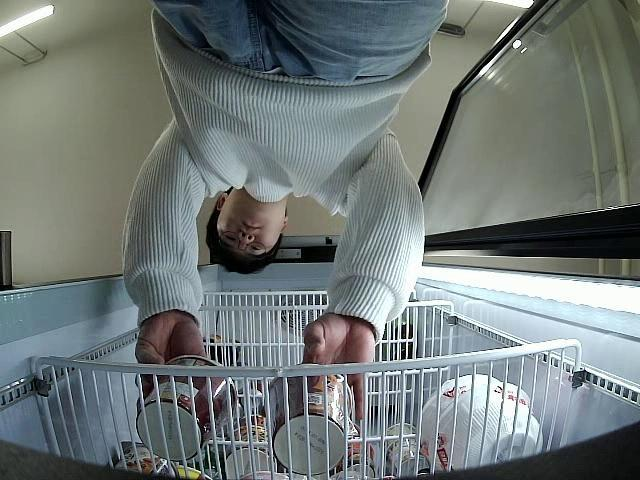06_nuguri_S: (137, 354, 237, 461), (261, 365, 352, 475)
